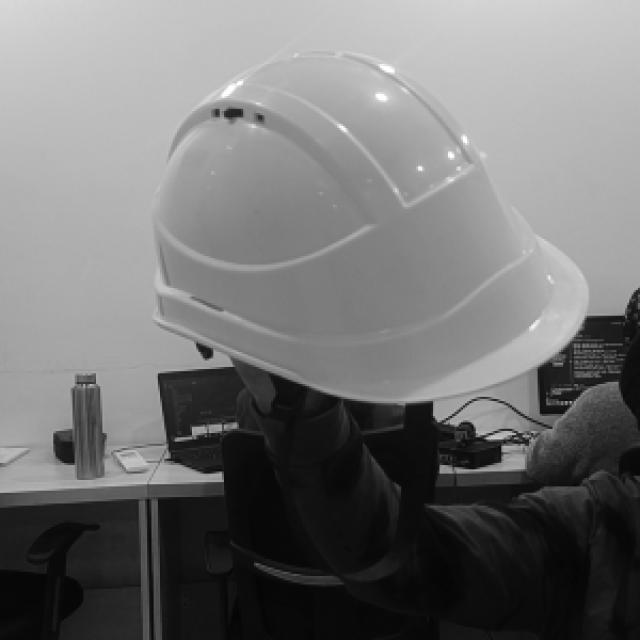safety_helmet: (151, 48, 589, 402)
